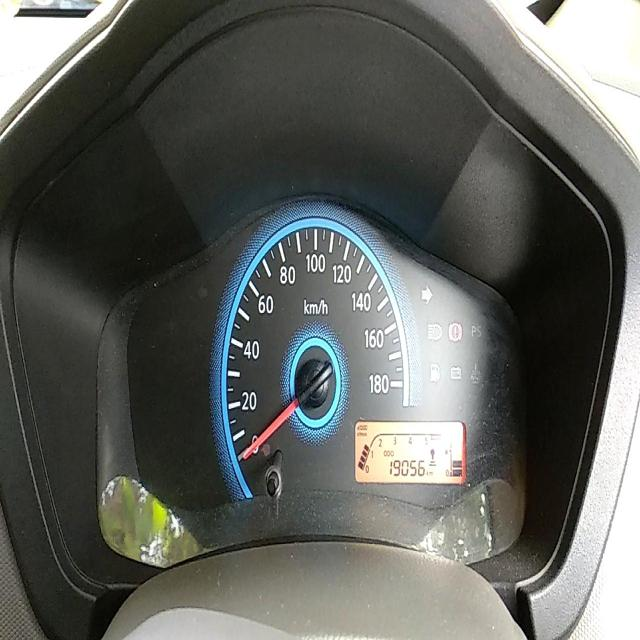odometer: (388, 457, 427, 479)
